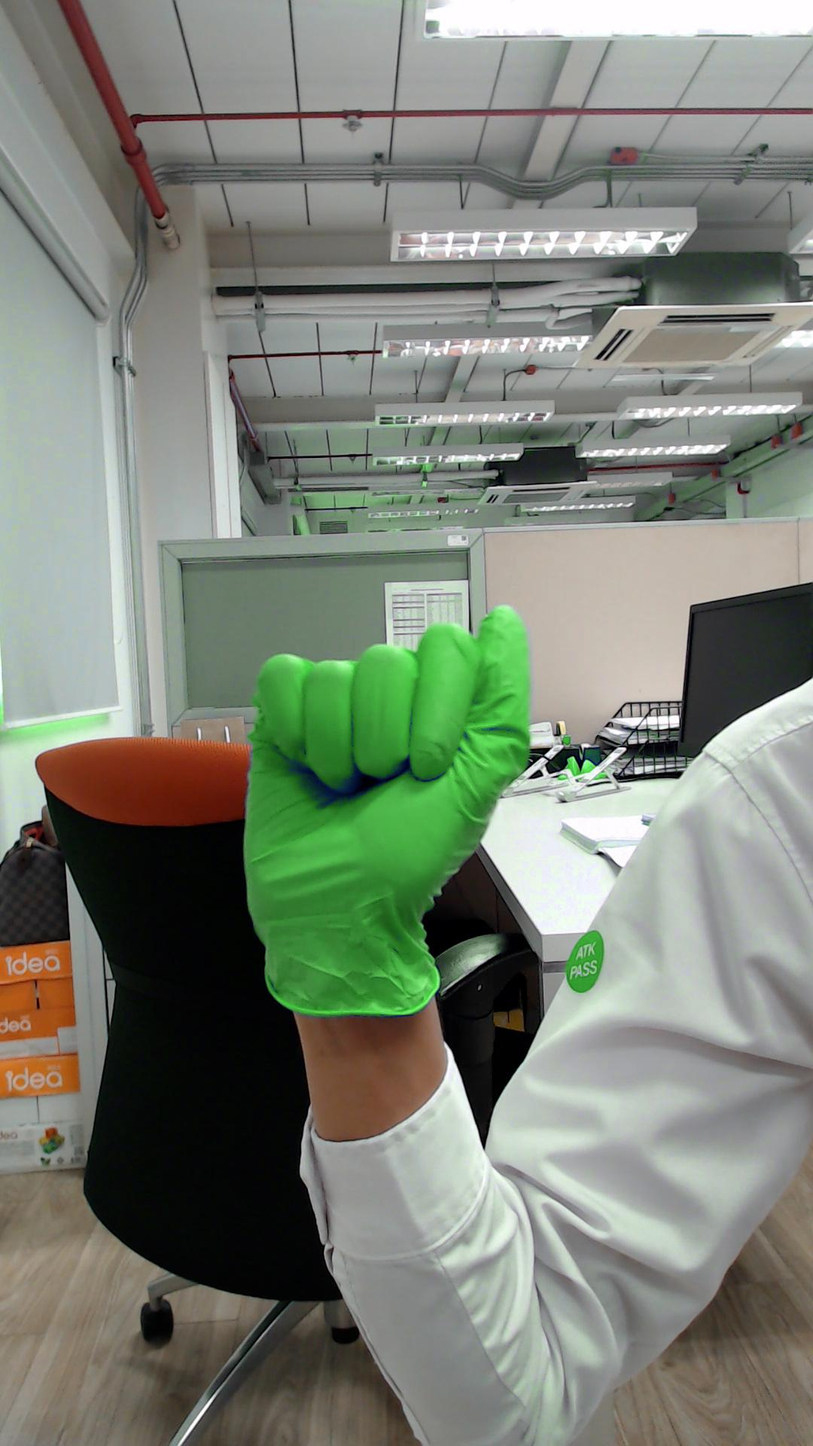gloves: (238, 591, 543, 892)
